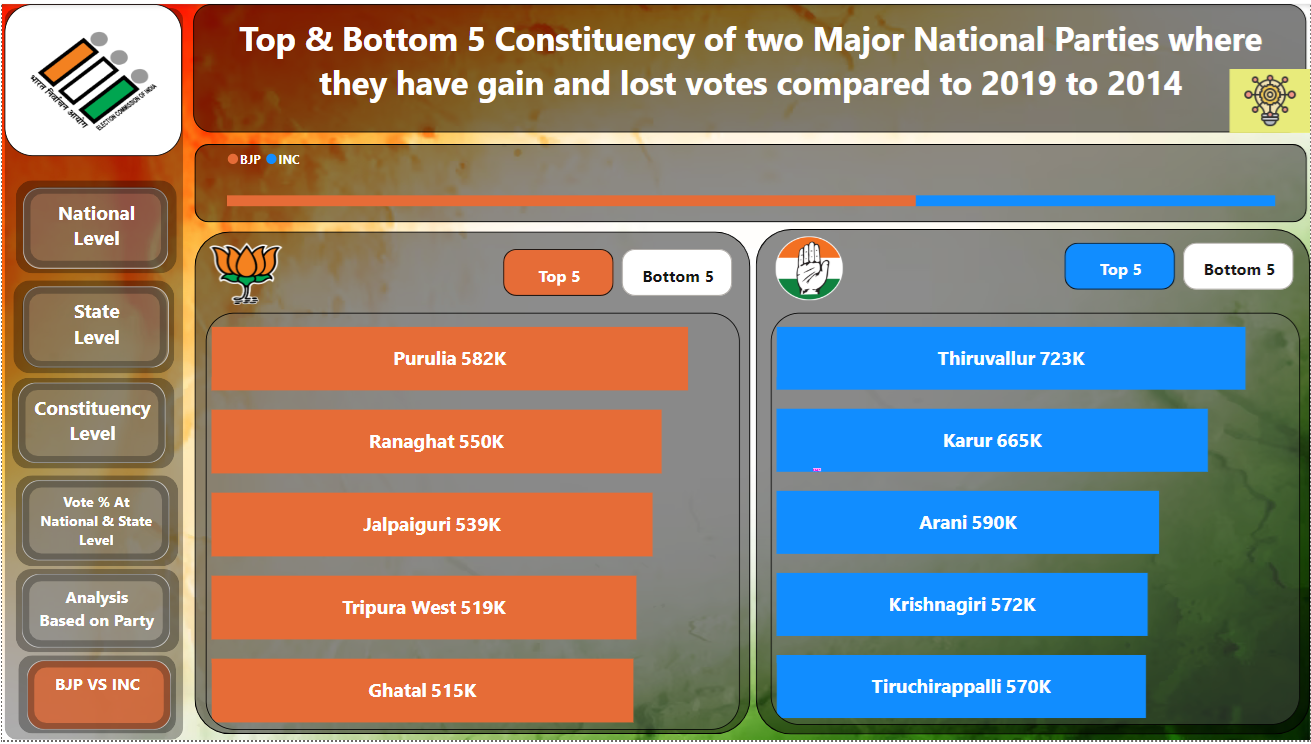

The dashboard page shown, as its layout file describes it:
{"tool":"powerbi","page":{"name":"BJP VS INC","canvas":[1280,720],"ordinal":7},"visuals":[{"type":"image","box":[0,0,1279.7,720.1],"z":0},{"type":"image","box":[1200.3,63.3,79.4,62.1],"z":0,"group":"g7"},{"type":"shape","box":[13,172.1,157.6,91.2],"z":0,"group":"g5"},{"type":"shape","box":[11.6,270.4,157.6,91.2],"z":0,"group":"g6"},{"type":"shape","box":[10,366,159,89],"z":0,"group":"g2"},{"type":"shape","box":[12.9,461,159,89],"z":0,"group":"g3"},{"type":"shape","box":[12.9,553,160,81.4],"z":0,"group":"g4"},{"type":"shape","box":[15.7,637.1,154.3,76.6],"z":0,"group":"g1"},{"type":"actionButton","box":[1200.3,63.3,79.4,62.1],"z":1000,"group":"g7"},{"type":"textbox","box":[20,178.9,141.9,78.8],"z":1000,"group":"g5"},{"type":"shape","box":[188,222.7,543.7,491.6],"z":1000},{"type":"textbox","box":[20.9,276.6,142.2,78.8],"z":1000,"group":"g6"},{"type":"textbox","box":[15.9,371.2,143.8,78.6],"z":1000,"group":"g2"},{"type":"textbox","box":[18.8,466.2,143.8,78.6],"z":1000,"group":"g3"},{"type":"textbox","box":[18.8,557.7,144.8,71.9],"z":1000,"group":"g4"},{"type":"textbox","box":[24,642.1,140.8,68.3],"z":1000,"group":"g1"},{"type":"shape","box":[188,137.4,1088,76.6],"z":2000},{"type":"actionButton","box":[20.9,177.9,141.7,79.5],"z":2000,"group":"g5"},{"type":"actionButton","box":[20.6,276.6,141.7,80],"z":2000,"group":"g6"},{"type":"actionButton","box":[15.9,371.1,143.8,78.6],"z":2000,"group":"g2"},{"type":"actionButton","box":[18.8,466.1,143.8,78.6],"z":2000,"group":"g3"},{"type":"actionButton","box":[18.8,557.7,144.8,71.9],"z":2000,"group":"g4"},{"type":"actionButton","box":[24,642.1,140.8,68.3],"z":2000,"group":"g1"},{"type":"shape","box":[737.5,219.8,542.3,494.5],"z":3000},{"type":"barChart","fields":{"Category":["CombinedElectionData.Constituency"],"Y":["CombinedElectionData.VoteGainBJP"]},"box":[199.6,302.2,522,407.8],"z":4000},{"type":"barChart","fields":{"Category":["CombinedElectionData.Constituency"],"Y":["CombinedElectionData.VoteGainINC"]},"box":[751.9,302.2,517.7,403.4],"z":5000},{"type":"advancedSlicerVisual","fields":{"Values":["Top Bottom.Metric"]},"box":[485.9,234.3,235.7,56.4],"z":6000},{"type":"advancedSlicerVisual","fields":{"Values":["Top Bottom INC.Metric"]},"box":[1033.9,228.5,235.7,56.4],"z":7000},{"type":"textbox","box":[187.4,0,1089,125.4],"z":8000},{"type":"barChart","fields":{"Y":["Sum(constituency_wise_results_2019.total_votes)"],"Series":["constituency_wise_results_2019.party"]},"box":[220.1,137,1034.5,75.8],"z":9000},{"type":"image","box":[198.1,228.5,81,70.9],"z":10000},{"type":"image","box":[751.9,222.7,75.2,72.3],"z":11000},{"type":"shape","box":[3,3.8,175,716.2],"z":12000},{"type":"image","box":[2.9,0,173.5,148.9],"z":13000},{"type":"group","id":"g1","title":"BJP VS INC ","box":[15.7,637.1,154.3,72.9],"z":14000},{"type":"group","id":"g2","title":"Vote % At National & State Level","box":[10,366,158.6,88.6],"z":15000},{"type":"group","id":"g3","title":"Vote % At National & State Level","box":[12.9,461,158.6,88.6],"z":16000},{"type":"group","id":"g4","title":"Winning Party & Candidate Margin","box":[12.9,553,160,81.4],"z":17000},{"type":"group","id":"g5","title":"National Button","box":[13,172.1,157.6,91.2],"z":18000},{"type":"group","id":"g6","title":"State Level","box":[11.6,270.4,157.6,91.1],"z":19000},{"type":"group","id":"g7","title":"Insights","box":[1200.3,63.3,79.4,62.1],"z":20000}]}

Visuals, with their boxes in screenshot pixels (x1, y1, x2, y2), scaled from the page's 1280x720 canvas onto the 1311x744 screenshot:
image: <box>0,0,1310,743</box>
image: <box>1229,65,1310,130</box>
shape: <box>13,178,175,272</box>
shape: <box>12,279,173,374</box>
shape: <box>10,378,173,470</box>
shape: <box>13,476,176,568</box>
shape: <box>13,571,177,656</box>
shape: <box>16,658,174,737</box>
actionButton: <box>1229,65,1310,130</box>
textbox: <box>20,185,166,266</box>
shape: <box>193,230,749,738</box>
textbox: <box>21,286,167,367</box>
textbox: <box>16,384,164,465</box>
textbox: <box>19,482,167,563</box>
textbox: <box>19,576,168,651</box>
textbox: <box>25,664,169,734</box>
shape: <box>193,142,1307,221</box>
actionButton: <box>21,184,167,266</box>
actionButton: <box>21,286,166,368</box>
actionButton: <box>16,383,164,465</box>
actionButton: <box>19,482,167,563</box>
actionButton: <box>19,576,168,651</box>
actionButton: <box>25,664,169,734</box>
shape: <box>755,227,1310,738</box>
barChart - CombinedElectionData.Constituency x CombinedElectionData.VoteGainBJP: <box>204,312,739,734</box>
barChart - CombinedElectionData.Constituency x CombinedElectionData.VoteGainINC: <box>770,312,1300,729</box>
advancedSlicerVisual - Top Bottom.Metric: <box>498,242,739,300</box>
advancedSlicerVisual - Top Bottom INC.Metric: <box>1059,236,1300,294</box>
textbox: <box>192,0,1307,130</box>
barChart - Sum(constituency_wise_results_2019.total_votes) x constituency_wise_results_2019.party: <box>225,142,1285,220</box>
image: <box>203,236,286,309</box>
image: <box>770,230,847,305</box>
shape: <box>3,4,182,743</box>
image: <box>3,0,181,154</box>
"BJP VS INC " group: <box>16,658,174,734</box>
"Vote % At National & State Level" group: <box>10,378,173,470</box>
"Vote % At National & State Level" group: <box>13,476,176,568</box>
"Winning Party & Candidate Margin" group: <box>13,571,177,656</box>
"National Button" group: <box>13,178,175,272</box>
"State Level" group: <box>12,279,173,374</box>
"Insights" group: <box>1229,65,1310,130</box>
